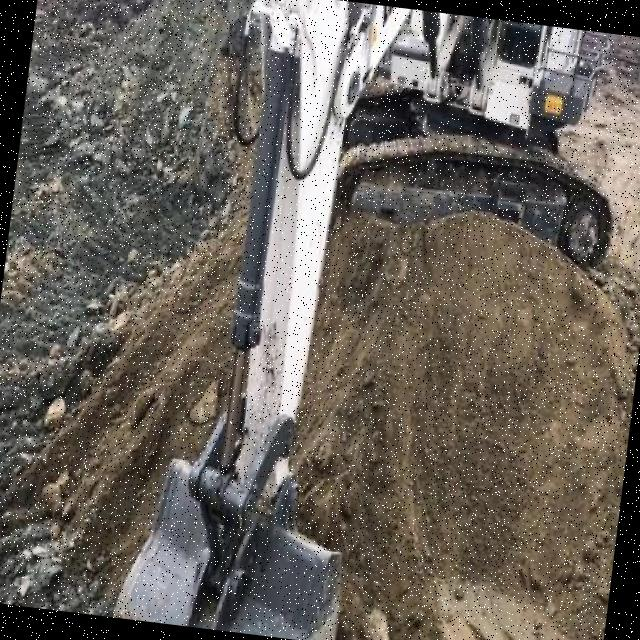Excavator: (109, 0, 636, 640)
